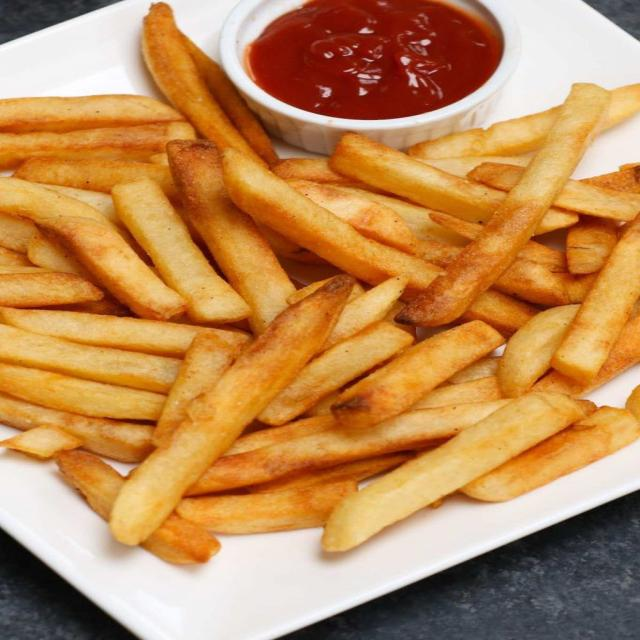potato fries: (110, 276, 353, 544), (400, 84, 609, 326), (323, 394, 582, 551), (224, 150, 440, 292), (188, 400, 511, 494), (0, 179, 185, 319), (168, 141, 295, 333), (112, 178, 250, 323), (332, 321, 504, 428), (143, 3, 259, 159), (462, 407, 639, 501), (258, 322, 413, 424), (330, 134, 505, 221), (40, 217, 186, 319), (552, 218, 639, 383), (0, 325, 180, 392), (184, 36, 278, 164), (0, 309, 247, 356), (0, 394, 152, 462), (177, 479, 357, 534), (154, 330, 240, 445), (0, 362, 165, 420), (289, 181, 416, 253), (0, 122, 194, 168), (534, 317, 639, 397), (333, 185, 464, 245), (410, 107, 561, 158), (497, 305, 579, 397), (0, 95, 183, 133), (15, 159, 178, 200), (247, 453, 413, 493), (324, 275, 408, 348), (56, 452, 124, 519), (224, 416, 335, 455), (0, 270, 104, 307), (460, 290, 538, 336), (554, 180, 639, 221), (410, 149, 531, 177), (41, 184, 121, 226), (411, 375, 503, 410), (566, 217, 617, 274), (28, 233, 90, 279), (0, 426, 82, 459), (273, 159, 357, 184), (583, 166, 639, 193), (0, 213, 37, 253), (431, 212, 483, 239), (448, 357, 499, 384), (287, 277, 331, 304), (0, 247, 41, 266), (626, 387, 639, 421)
